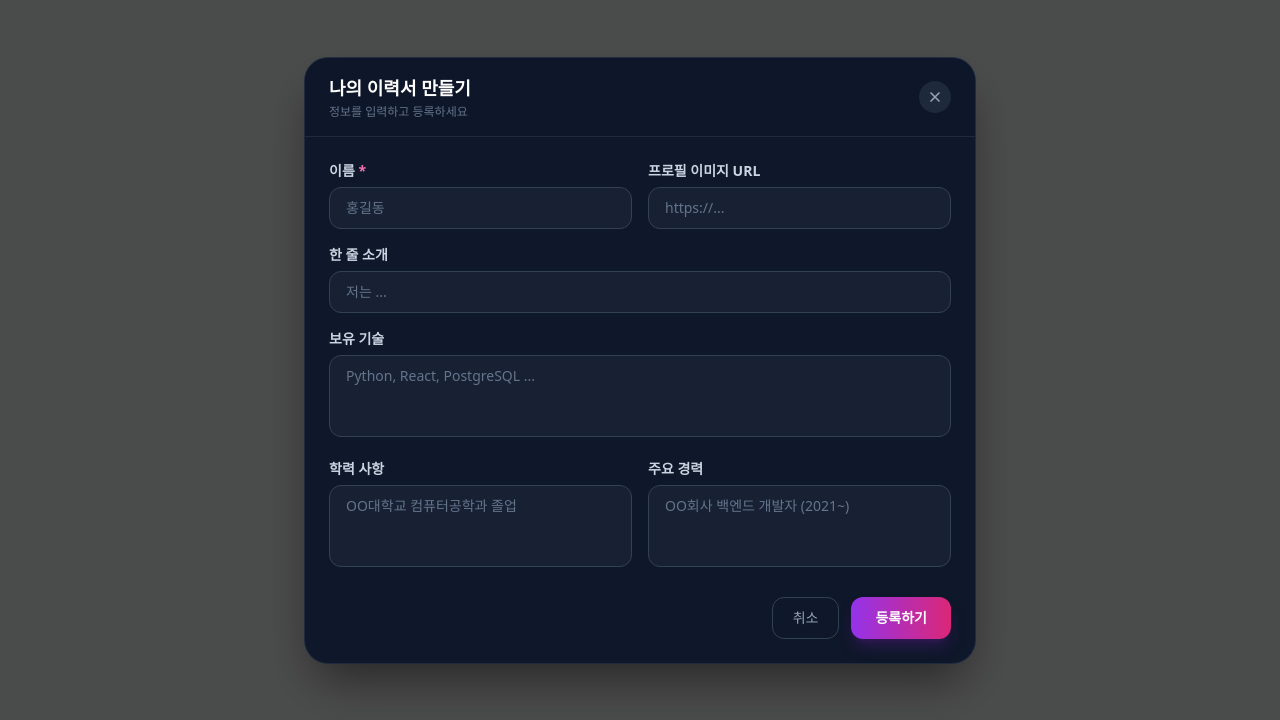
Test: CreateResumeModal - 유효성 검사 › 이름을 입력하지 않고 제출하면 오류 메시지가 표시된다
What coordinates should you click on to do the following:
click the button "등록하기"
I would click on:
 (901, 618)
Its box is [852,596,951,638].
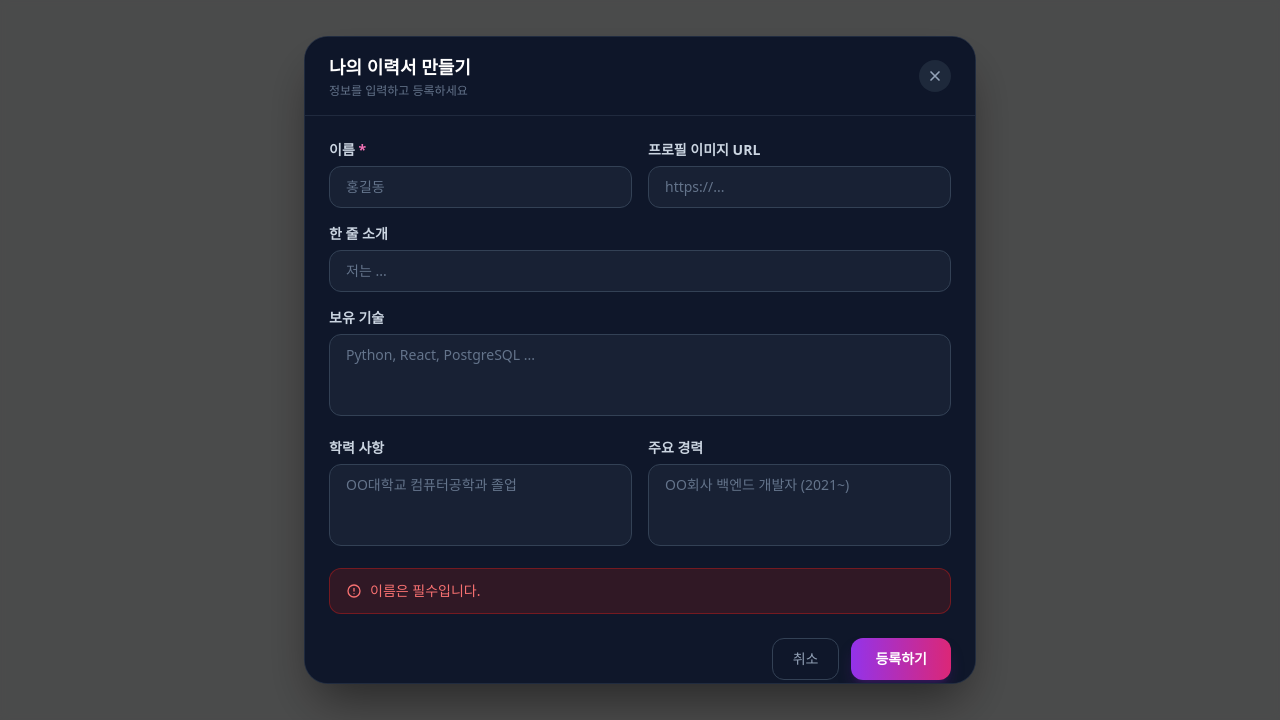
Check: the text "이름은 필수입니다." is shown, box [329,568,951,614]
